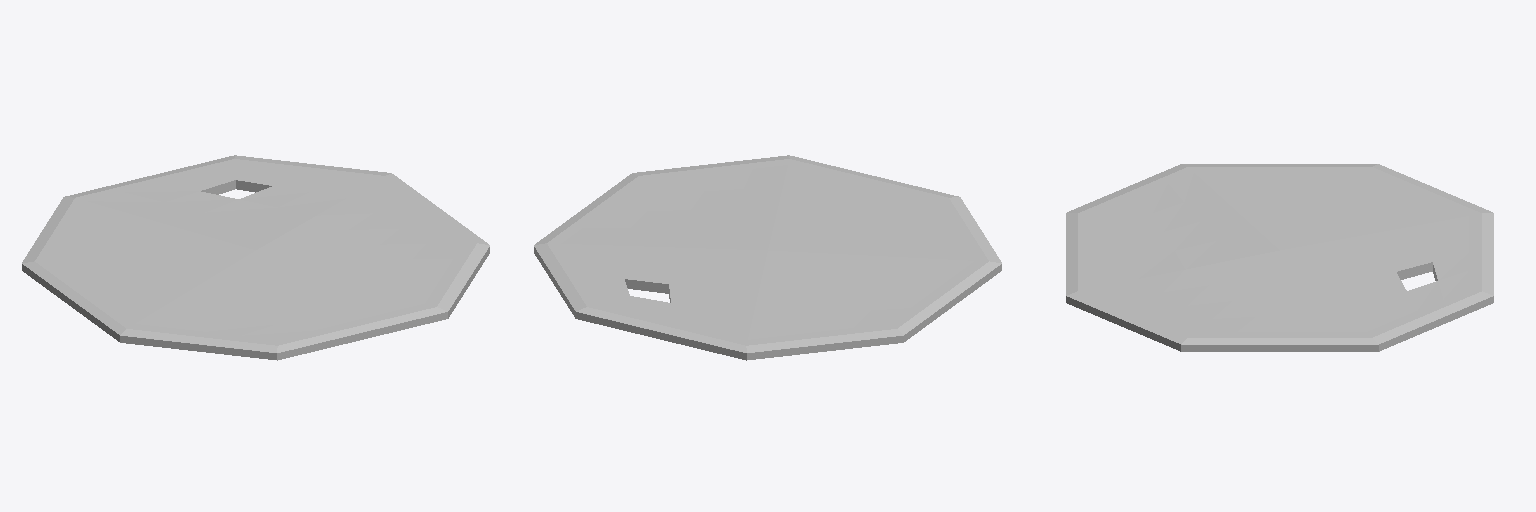
Rendered from floor_4.obj.
3 renders of one model, left to right at view 1: azimuth 30°, elevation 25°; view 2: azimuth 150°, elevation 25°; view 3: azimuth 270°, elevation 25°, orthographic.
Parts seen in each view (by area): view 1: floor.004; view 2: floor.004; view 3: floor.004.
Part boxes in pixels (left/top/right/bottom): floor.004: left=22, top=155, right=489, bottom=360; floor.004: left=534, top=155, right=1001, bottom=360; floor.004: left=1066, top=164, right=1493, bottom=351.
Size of the model in its own units: 32.5 by 0.9254 by 32.5.